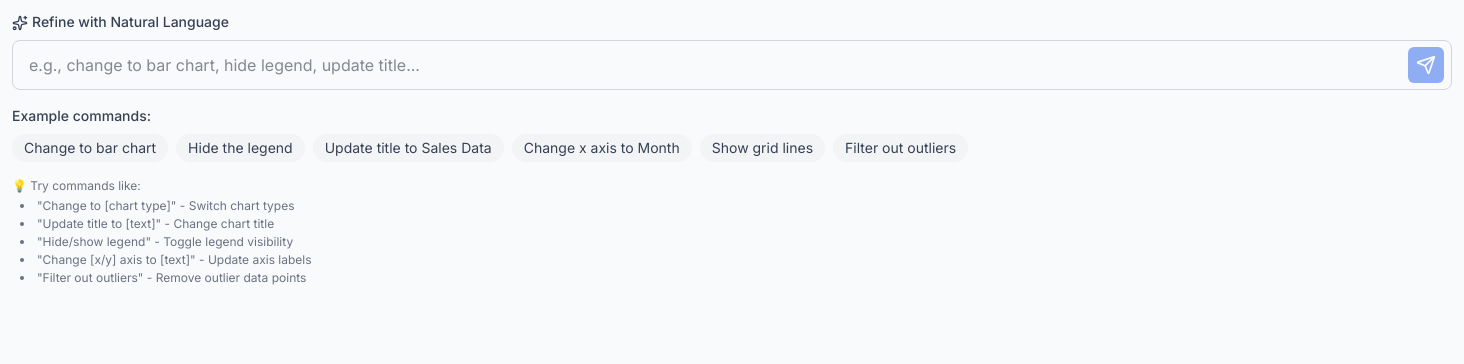
Scenario: RefinementPanel › displays fallback error message on general failure
The image size is (1464, 364).
Type "make it cool" into the field with placeholder "e.g., change to bar chart, hide legend, update title...". click: point(732, 65)
box: x1=12 y1=40 x2=1452 y2=90
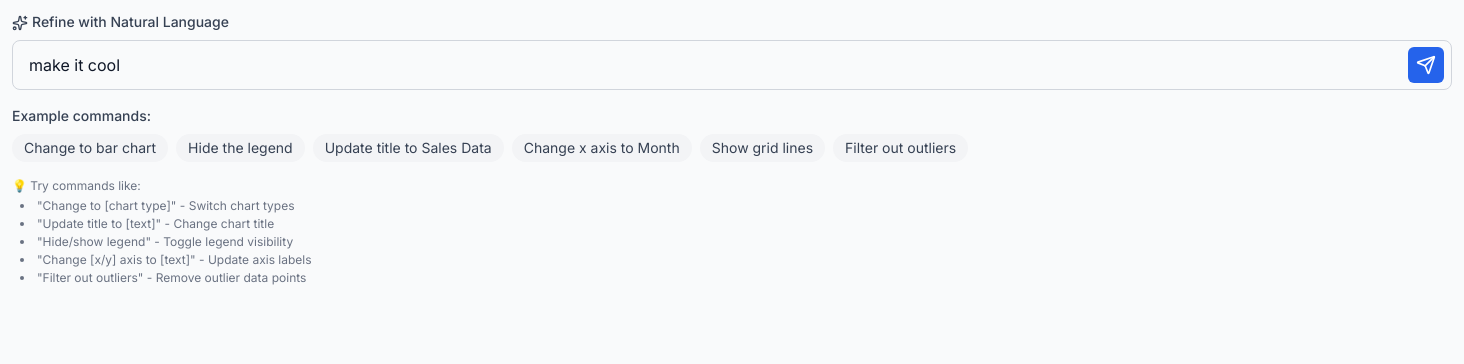
Click the button titled "Apply refinement". click: point(1426, 65)
box: x1=1408 y1=47 x2=1444 y2=83
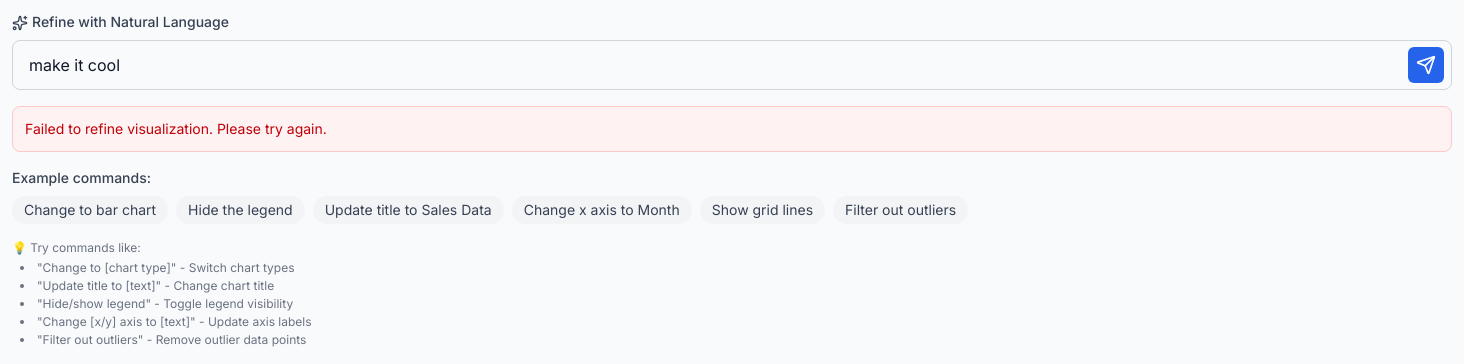
Check: the text "Failed to refine visualization. Please try again." is shown, box x1=25 y1=120 x2=327 y2=137
